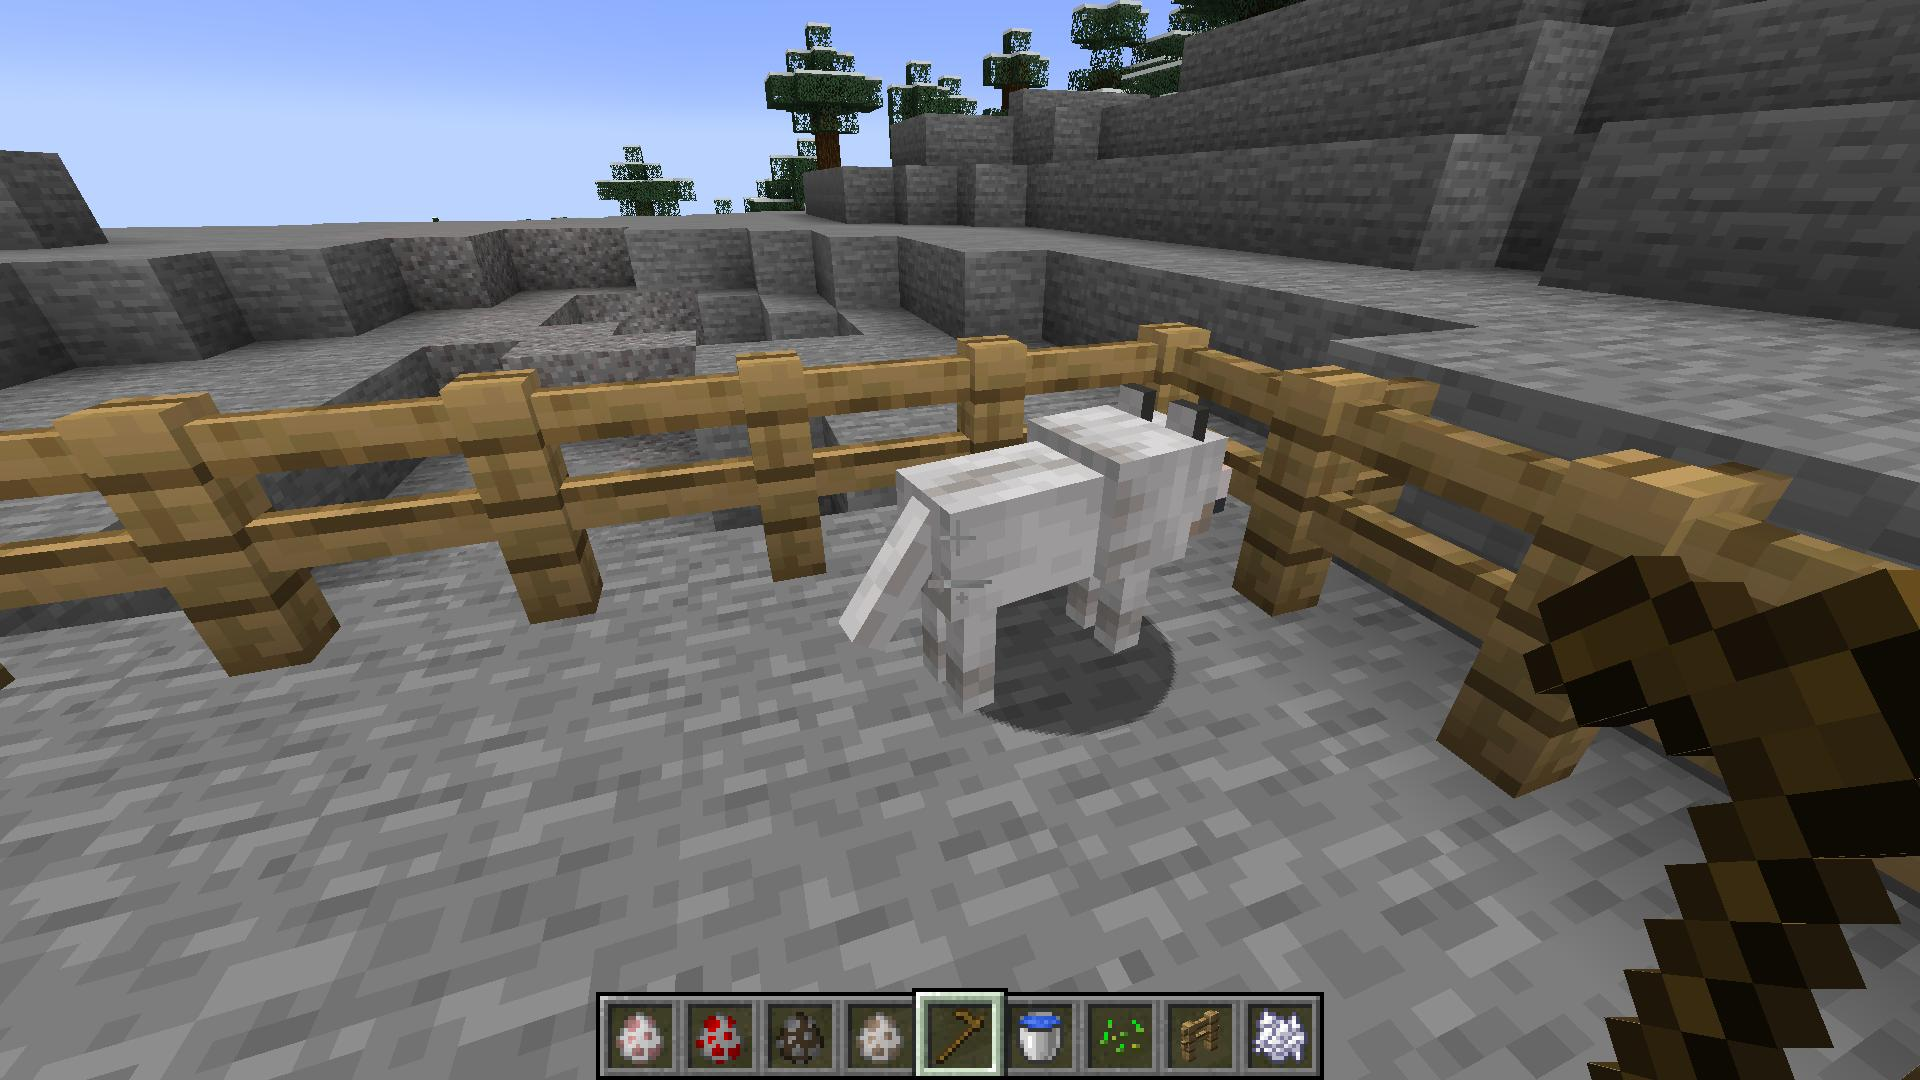wolf: (829, 376, 1233, 717)
